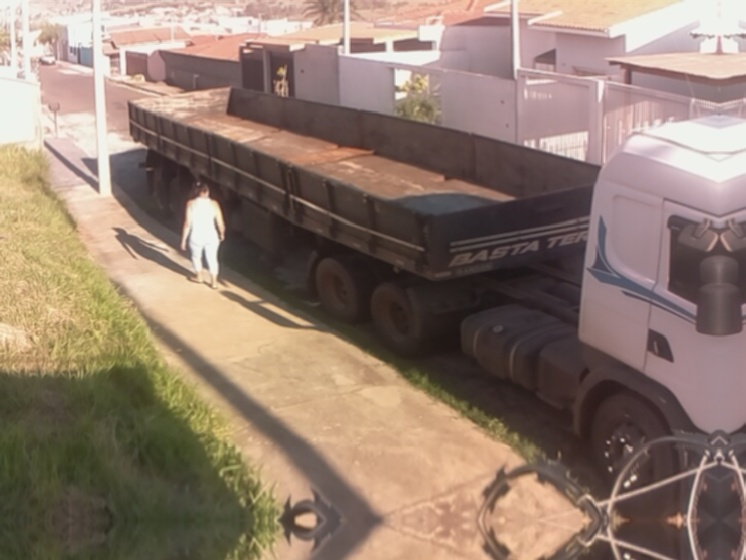person: (177, 177, 226, 292)
